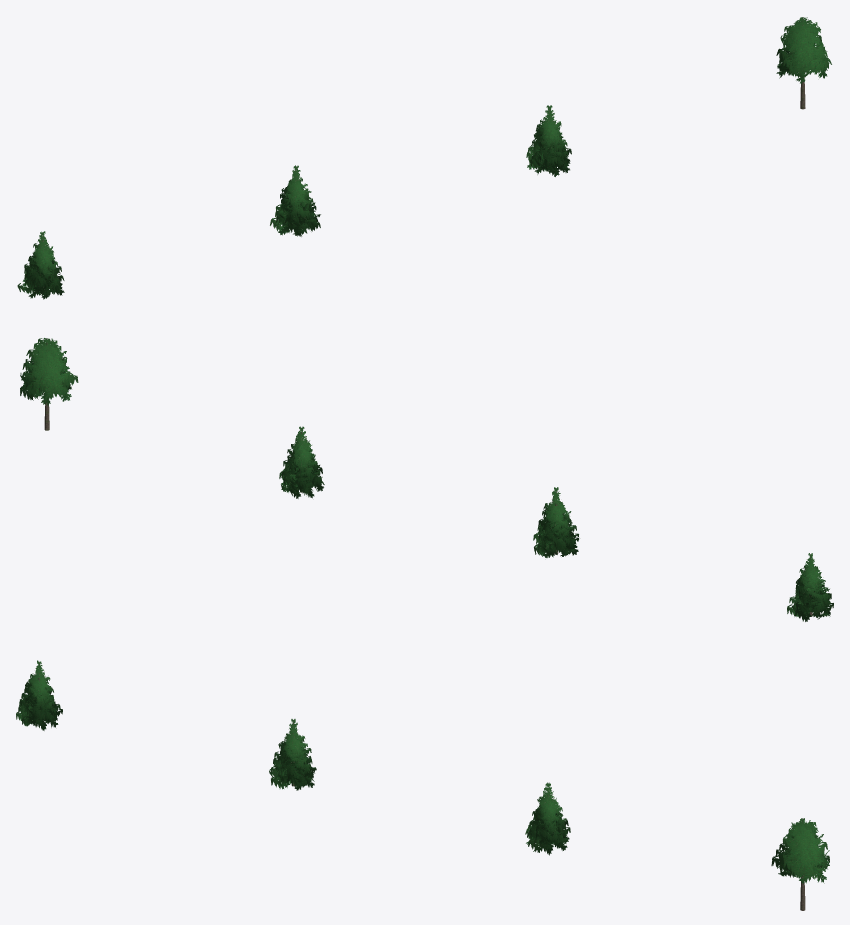
The model's file is conifer.glb.
The picture shows the model from 3 angles, top to bottom: view 1: azimuth 30°, elevation 25°; view 2: azimuth 150°, elevation 25°; view 3: azimuth 330°, elevation 25°; orthographic projection.
Parts seen in each view (by area): view 1: conifer_needles_27, conifer_needles_9, conifer_needles_16, conifer_needles_4; view 2: conifer_needles_27, conifer_needles_9, conifer_needles_16, conifer_needles_4; view 3: conifer_needles_27, conifer_needles_9, conifer_needles_16, conifer_needles_4.
Part boxes in pixels (box(x1,y1,x2,y2)): conifer_needles_27: box(776, 17, 831, 83); conifer_needles_9: box(270, 165, 320, 236); conifer_needles_16: box(526, 105, 571, 176); conifer_needles_4: box(17, 231, 64, 299); conifer_needles_27: box(20, 338, 78, 405); conifer_needles_9: box(533, 487, 578, 557); conifer_needles_16: box(279, 426, 324, 498); conifer_needles_4: box(787, 553, 833, 621); conifer_needles_27: box(771, 818, 829, 884); conifer_needles_9: box(269, 719, 316, 790); conifer_needles_16: box(525, 782, 570, 855); conifer_needles_4: box(16, 660, 62, 730).
Bounding box in the file's own units: 193 × 21.5 × 13.27.
2 materials, 2 textured.
